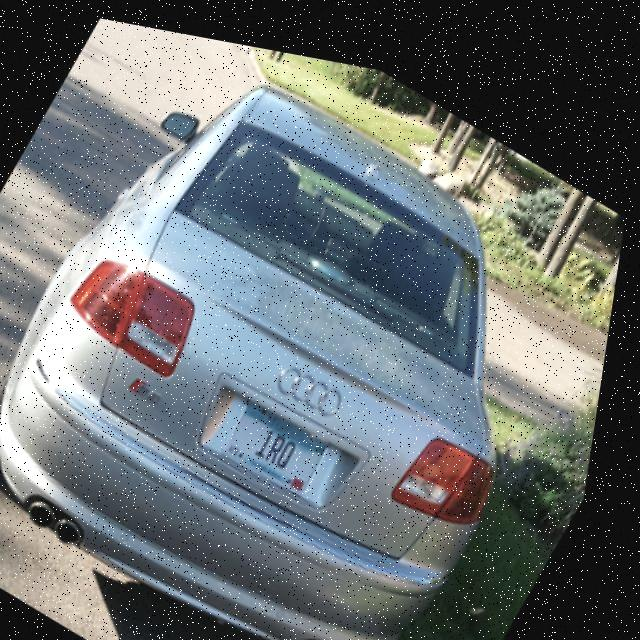license_plate: (224, 381, 350, 488)
